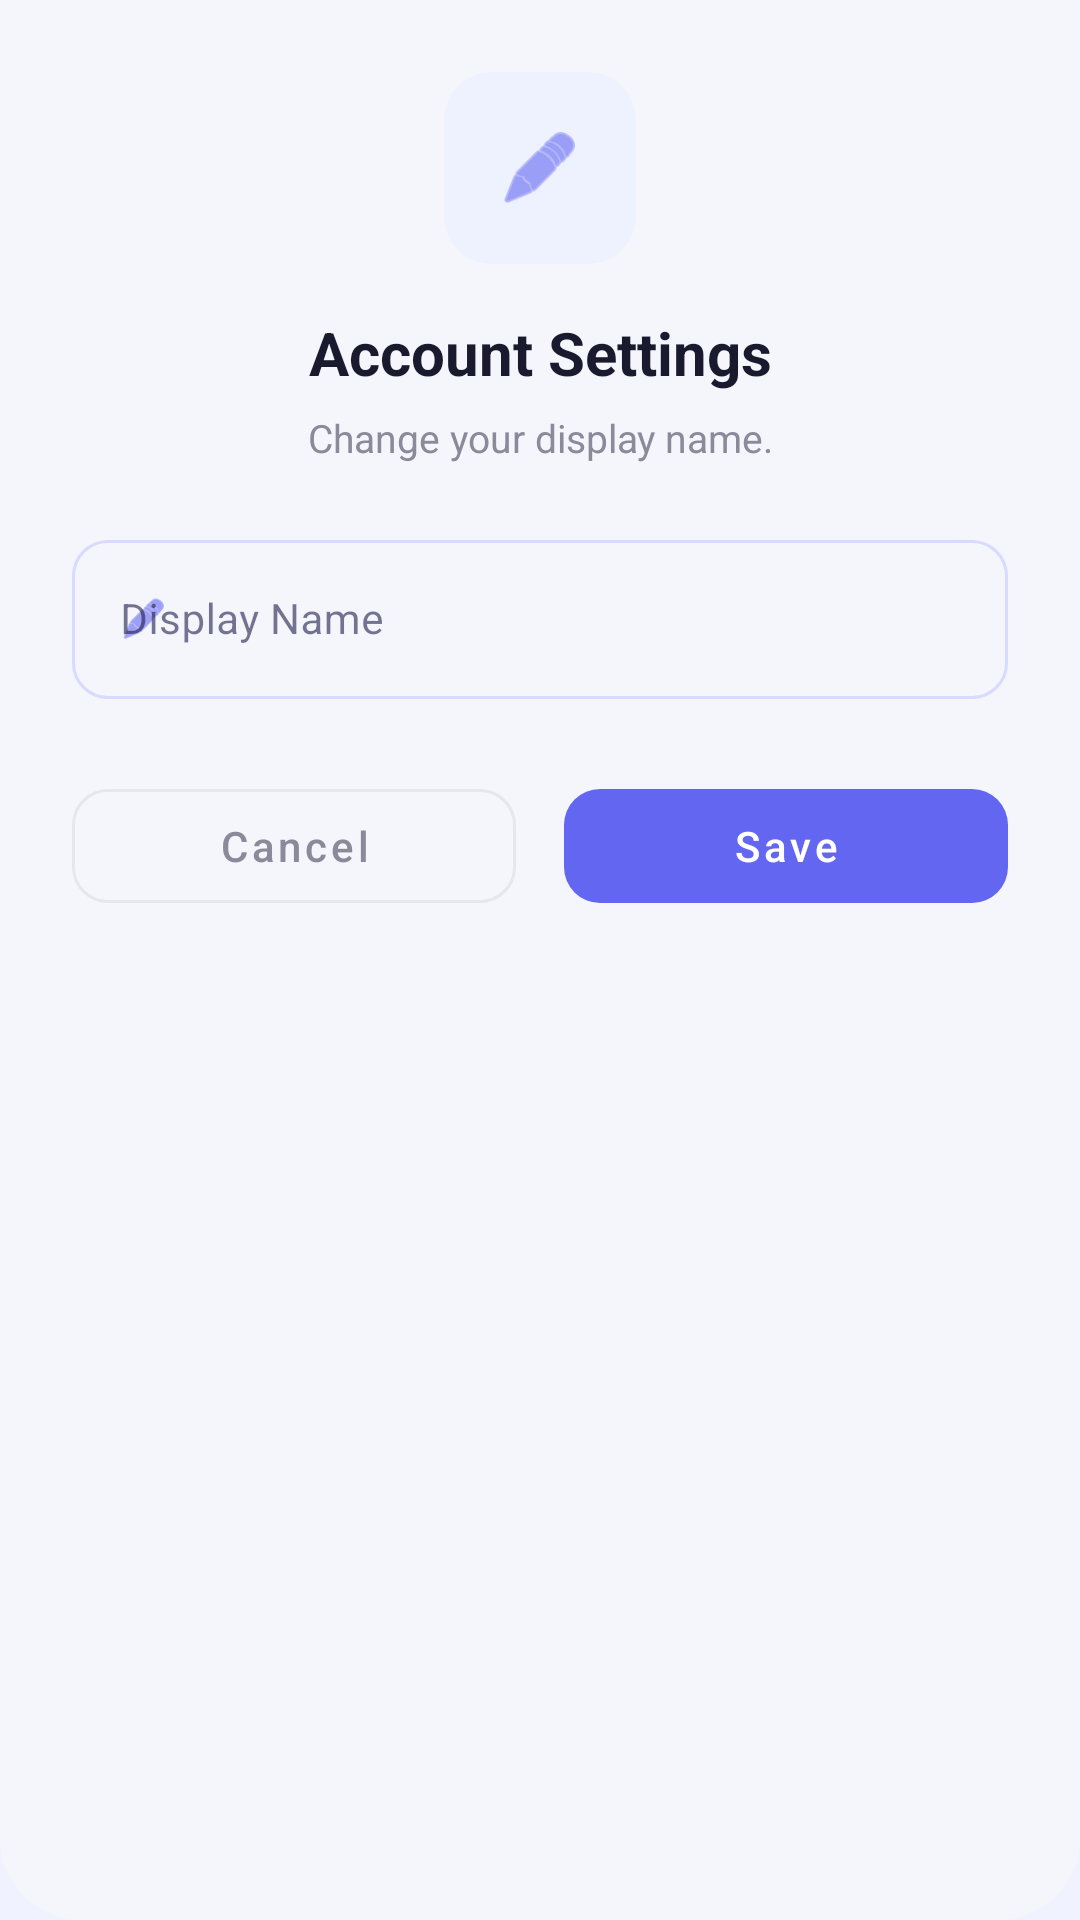

Icon click points for this 1080*1920 phone screenshot, format point (x, y):
edit: point (539, 167)
